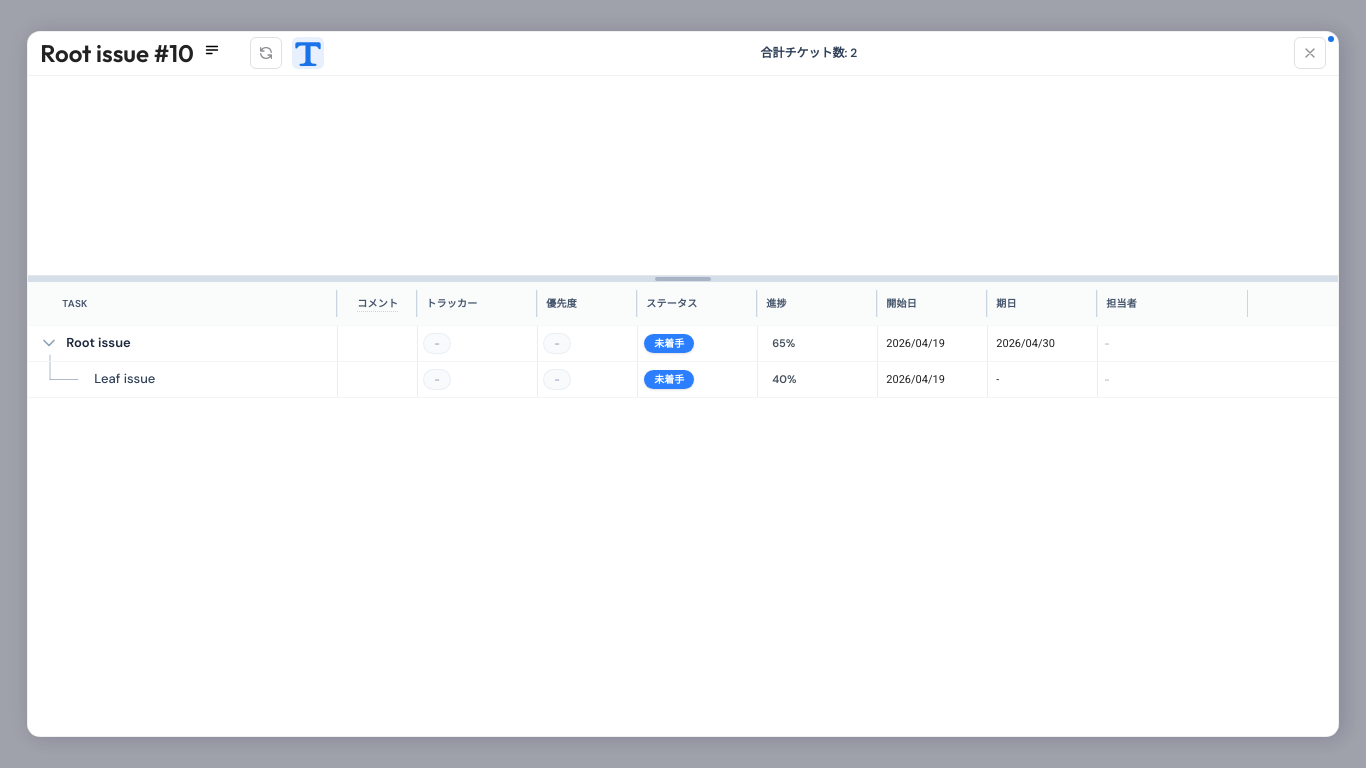
Test: TaskDetailsDialog › supports Clear action in the inline date picker
Double-click the button with test id "start-date-display-11": (916, 379) [886,373,945,386]
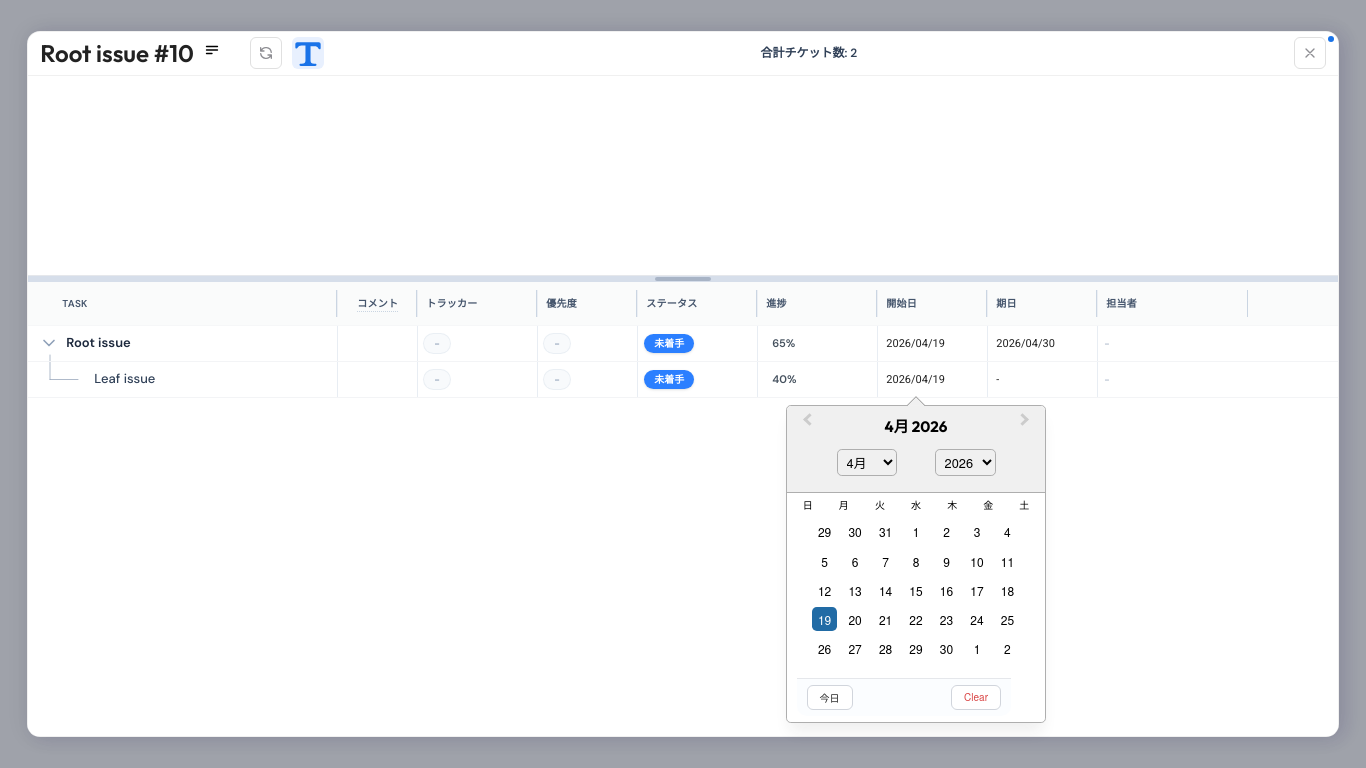
Check: the button with test id "date-clear-footer-start_date-11" is shown
Click the button with test id "date-clear-footer-start_date-11": (976, 697) [951,685,1001,710]
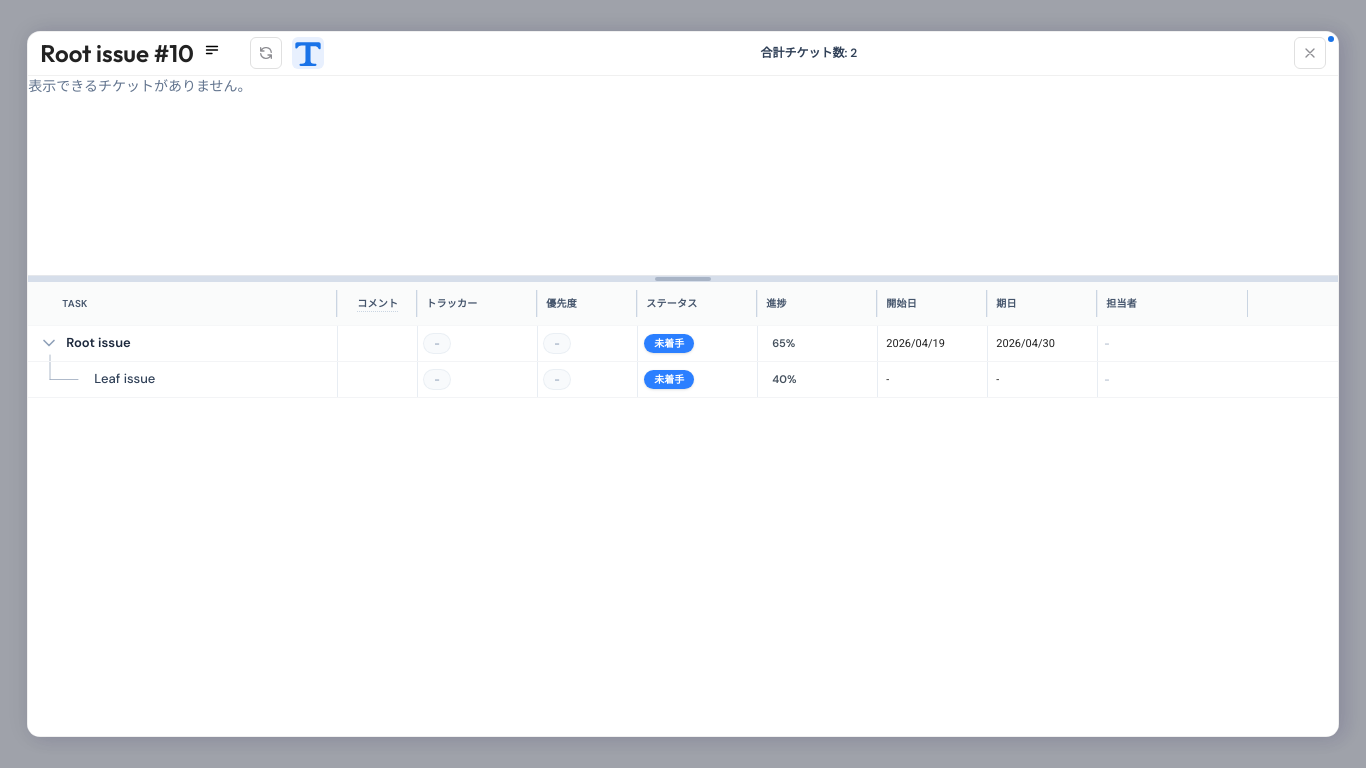
Check: the button with test id "start-date-display-11" reads "-", box [886,373,889,386]
